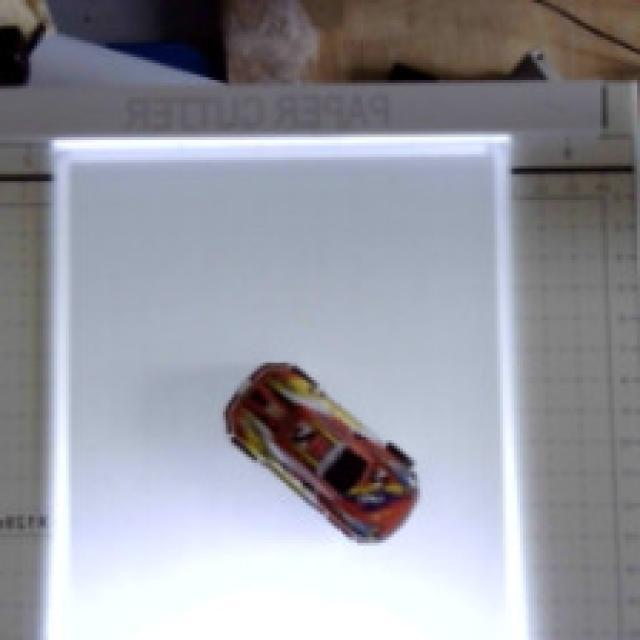Red Car: (204, 342, 452, 595)
